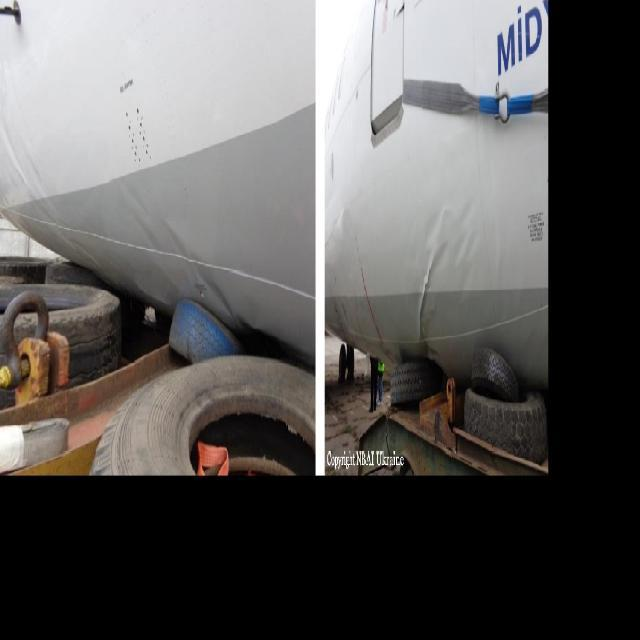dent: (109, 162, 243, 337), (410, 189, 482, 375)
